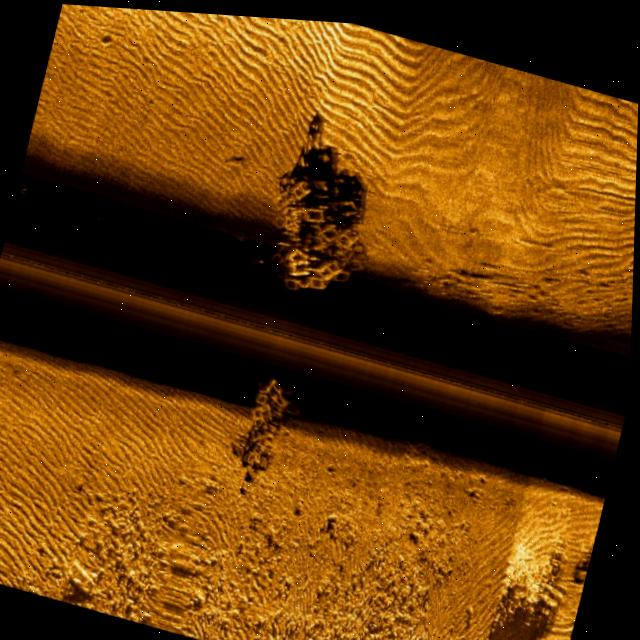artificial reef: (254, 157, 384, 300), (218, 363, 312, 471)
